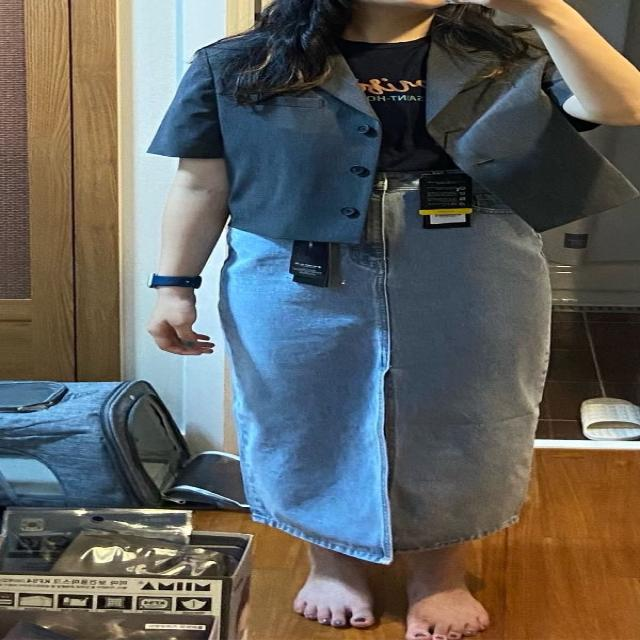blazer: (147, 19, 639, 245)
skirt: (219, 176, 552, 562)
